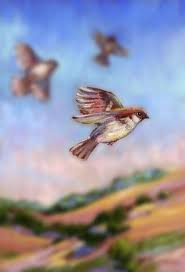hsparrow: (65, 82, 156, 166)
